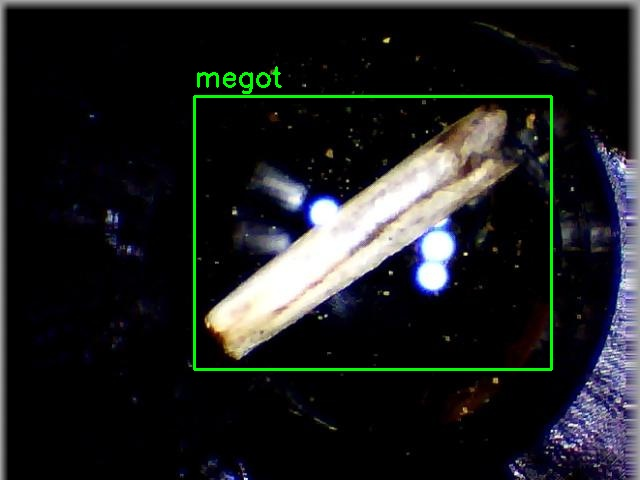megot: (194, 96, 551, 369)
